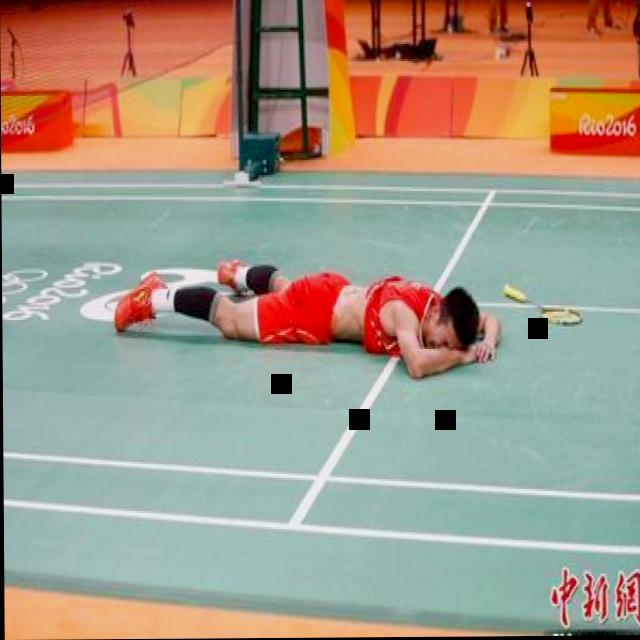Fall-Detected: (100, 232, 493, 384)
